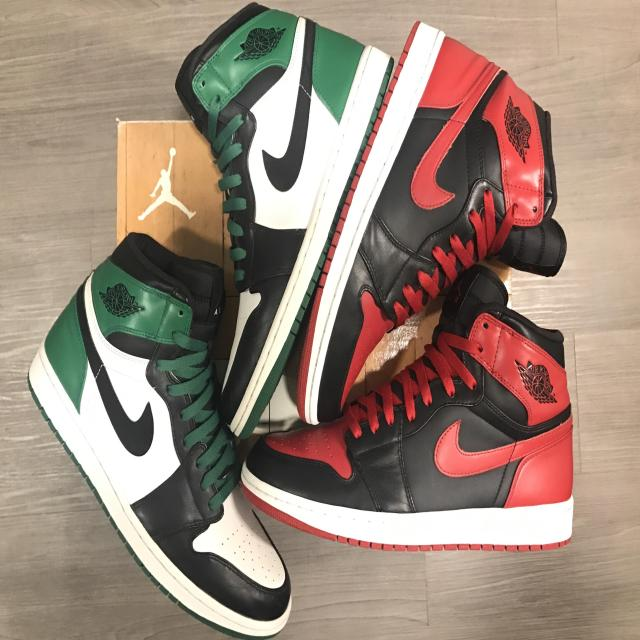shoes: (311, 31, 544, 421), (32, 265, 286, 609), (246, 317, 580, 548), (203, 9, 329, 438)
